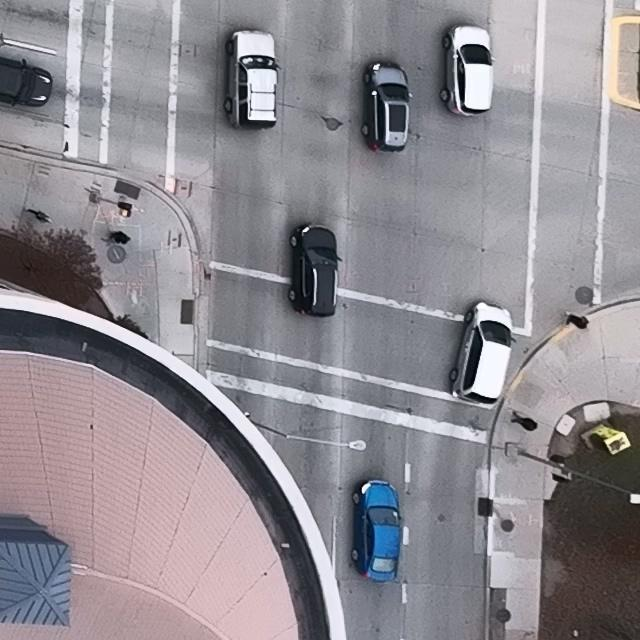car: (448, 301, 516, 410), (223, 29, 281, 129), (351, 479, 402, 581), (287, 224, 342, 318), (441, 25, 495, 117), (360, 61, 412, 152), (0, 55, 53, 108)
